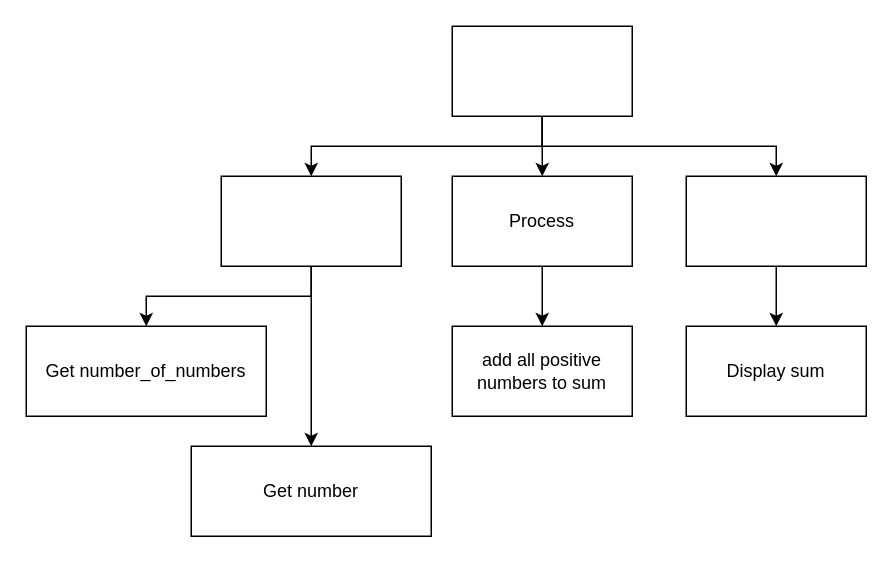
Image size: 893x563. Some labels were removed from this diagram. The centre of each missing label's shape, as x and y in pixels:
"Circumference" goes at [541,70].
"Input" goes at [310,220].
"output" goes at [775,220].
